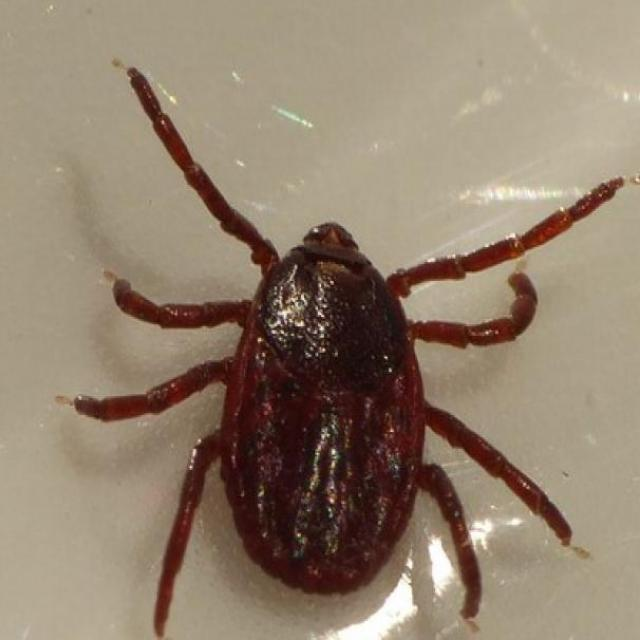Rhipicephalus Sanguineus-F: (68, 70, 627, 640)
